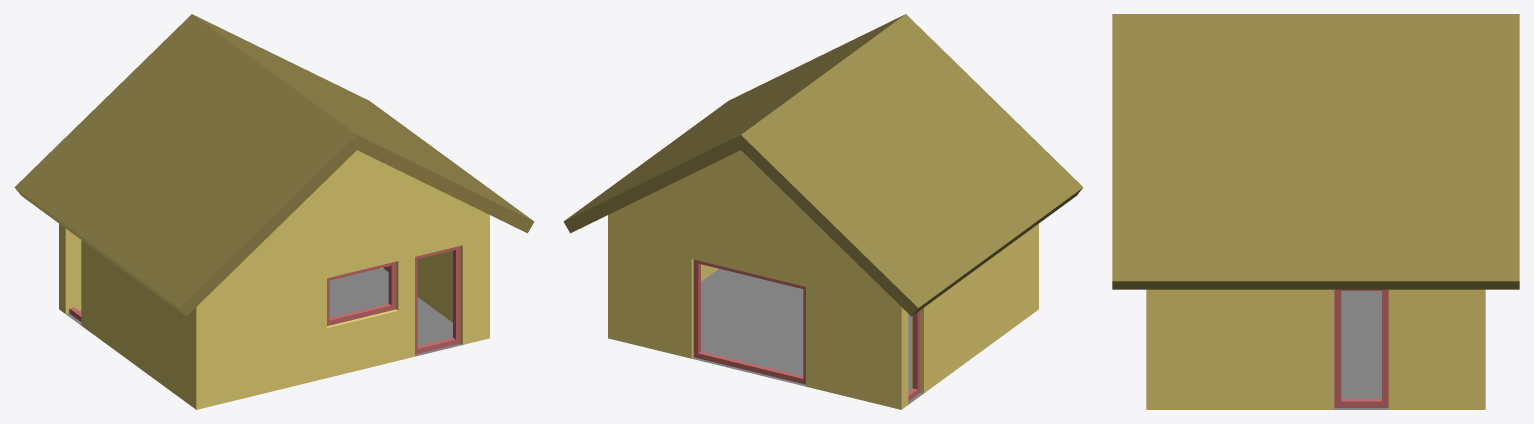
The model's file is result.glb.
3 views of the same model, side by side, from view 1: azimuth 30°, elevation 25°; view 2: azimuth 150°, elevation 25°; view 3: azimuth 270°, elevation 25° (orthographic). The views are drawn at different scales.
Visible parts, largest first — view 1: c9979560-050a-400d-95c3-6750e06985fb__undefined (×2), 083057ca-973c-4305-94ce-fe078507daad__undefined, 049a947e-1b28-4b24-9c0e-6b8d8d1e104a__Plane_6, f6aa09ef-f073-4135-a064-556675098f9b__Box, 7ee006c4-bcdb-4fae-888d-fb8bb3448c0f__Box_3; view 2: c9979560-050a-400d-95c3-6750e06985fb__undefined (×2), 083057ca-973c-4305-94ce-fe078507daad__undefined, 049a947e-1b28-4b24-9c0e-6b8d8d1e104a__Plane_6, d5b4ff6a-456c-4c77-a658-6dbedde2058b__Box_9, 6e31f8d1-2dfb-4f30-b4c5-c27550da34fc__Box_12; view 3: c9979560-050a-400d-95c3-6750e06985fb__undefined, 083057ca-973c-4305-94ce-fe078507daad__undefined, 049a947e-1b28-4b24-9c0e-6b8d8d1e104a__Plane_6, 60ed7789-a4da-4742-b518-267bc27c12ab__Box_15.
Boxes of the visible parts, x1=… form: c9979560-050a-400d-95c3-6750e06985fb__undefined (×2): x1=14, y1=14, x2=534, y2=316; 083057ca-973c-4305-94ce-fe078507daad__undefined: x1=59, y1=150, x2=489, y2=409; 049a947e-1b28-4b24-9c0e-6b8d8d1e104a__Plane_6: x1=66, y1=268, x2=461, y2=356; f6aa09ef-f073-4135-a064-556675098f9b__Box: x1=415, y1=246, x2=460, y2=354; 7ee006c4-bcdb-4fae-888d-fb8bb3448c0f__Box_3: x1=327, y1=261, x2=396, y2=325; c9979560-050a-400d-95c3-6750e06985fb__undefined (×2): x1=563, y1=14, x2=1083, y2=316; 083057ca-973c-4305-94ce-fe078507daad__undefined: x1=608, y1=150, x2=1038, y2=409; 049a947e-1b28-4b24-9c0e-6b8d8d1e104a__Plane_6: x1=692, y1=268, x2=923, y2=404; d5b4ff6a-456c-4c77-a658-6dbedde2058b__Box_9: x1=693, y1=259, x2=805, y2=384; 6e31f8d1-2dfb-4f30-b4c5-c27550da34fc__Box_12: x1=908, y1=310, x2=920, y2=400; c9979560-050a-400d-95c3-6750e06985fb__undefined: x1=1112, y1=14, x2=1519, y2=289; 083057ca-973c-4305-94ce-fe078507daad__undefined: x1=1146, y1=289, x2=1485, y2=409; 049a947e-1b28-4b24-9c0e-6b8d8d1e104a__Plane_6: x1=1334, y1=291, x2=1388, y2=409; 60ed7789-a4da-4742-b518-267bc27c12ab__Box_15: x1=1334, y1=289, x2=1388, y2=407.
Size of the model in its own units: 745 by 500 by 600.
